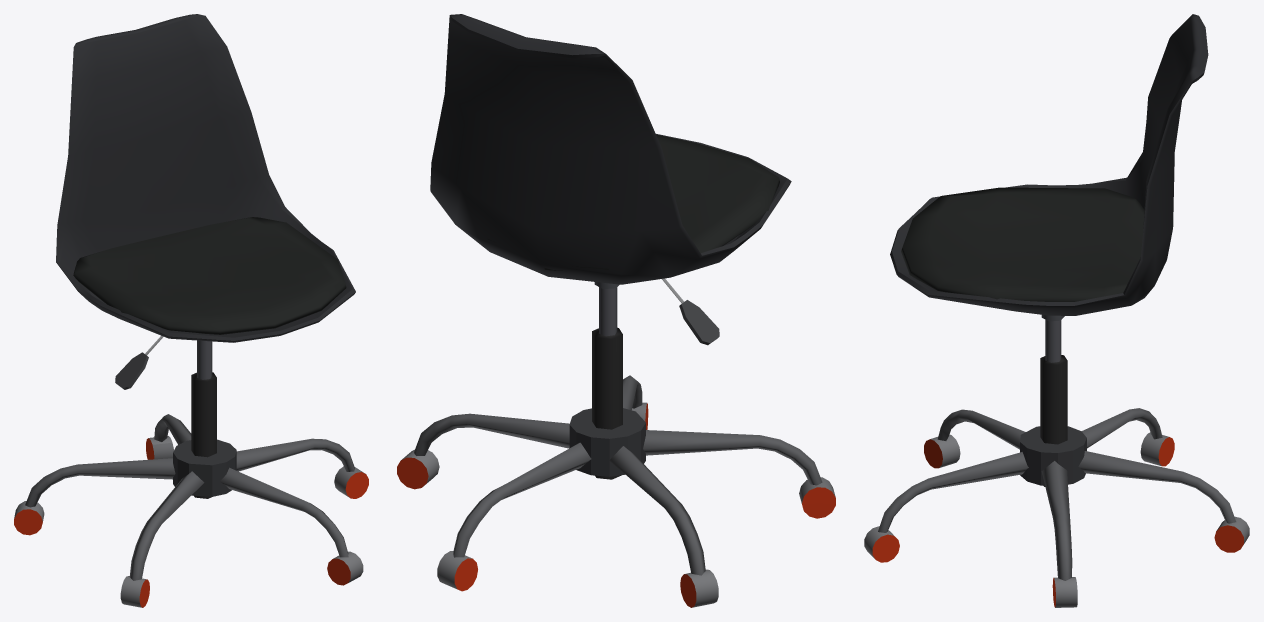
The model's file is SM_ChairOfficeBlackGrey_01.fbx.
3 renders of one model, left to right at view 1: azimuth 30°, elevation 25°; view 2: azimuth 150°, elevation 25°; view 3: azimuth 270°, elevation 25°, orthographic. The views are drawn at different scales.
Parts seen in each view (by area): view 1: SM_ChairOfficeBlackGrey_01; view 2: SM_ChairOfficeBlackGrey_01; view 3: SM_ChairOfficeBlackGrey_01.
Part boxes in pixels (x1,y1,x2,y2): SM_ChairOfficeBlackGrey_01: [14, 14, 368, 607]; SM_ChairOfficeBlackGrey_01: [397, 14, 835, 607]; SM_ChairOfficeBlackGrey_01: [864, 14, 1249, 607].
Size of the model in its own units: 63.84 by 91.42 by 65.96.
